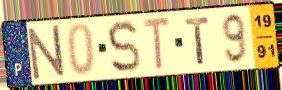0: (65, 21, 99, 79)
9: (220, 11, 249, 65)
N: (26, 23, 67, 82)
S: (105, 19, 142, 75)
T: (141, 15, 172, 73), (183, 15, 212, 67)
